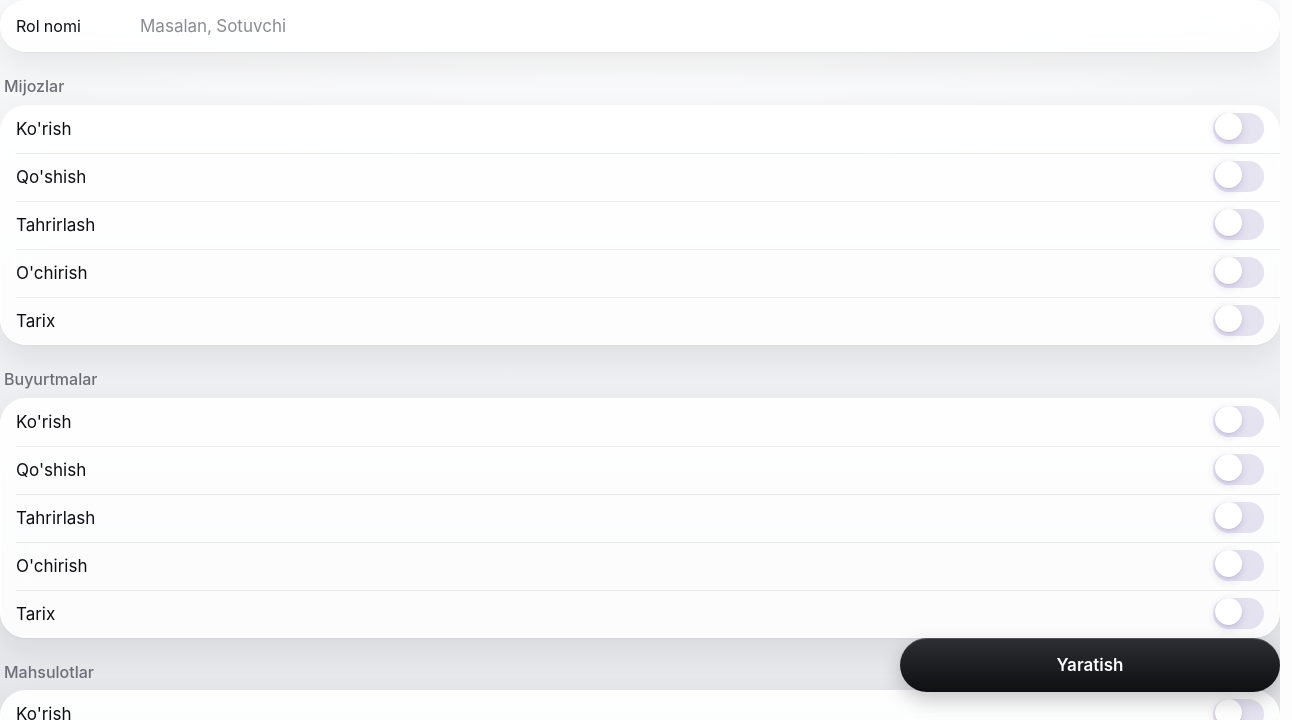
Test: a new role is made with its name and permissions, in the catalog's order, and the roles open
This screenshot has width=1292, height=720.
Type " Sotuvchi " into the field labelled "Rol nomi" at (702, 26), box [140, 4, 1264, 48]
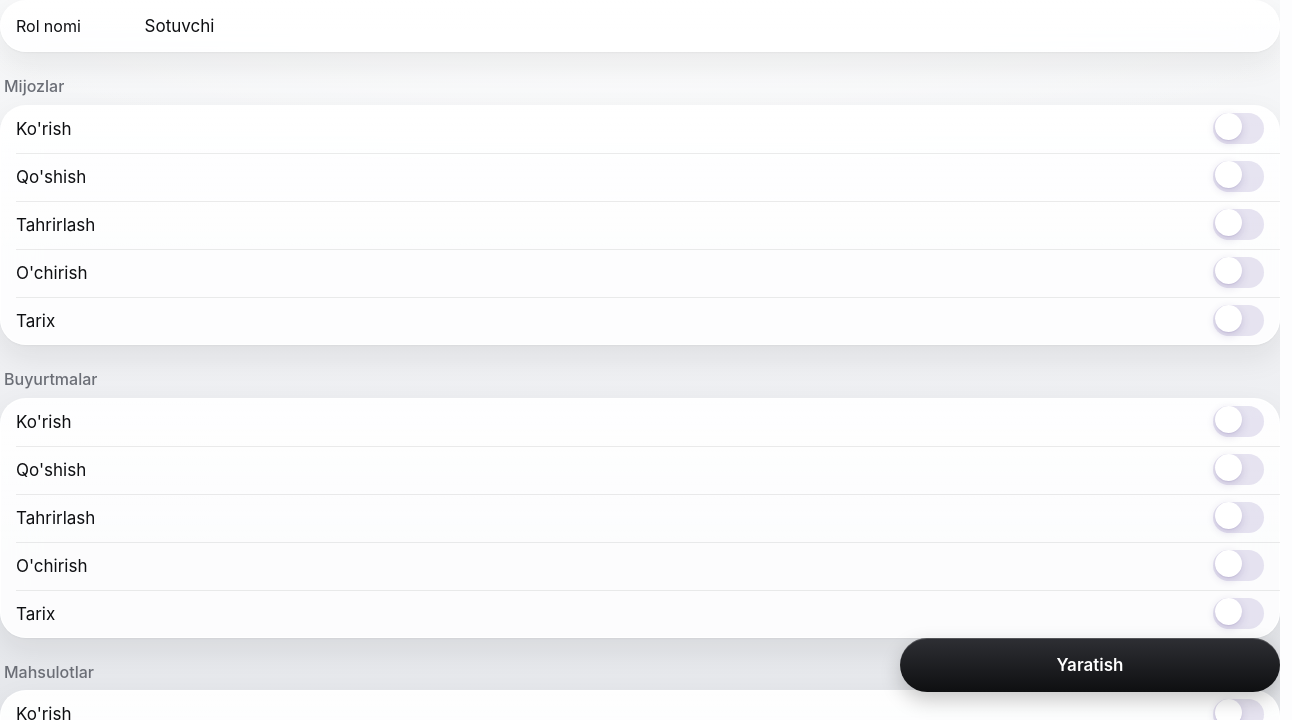
Click the 6th switch named "Ko'rish" at (1238, 422), box [1213, 406, 1264, 437]
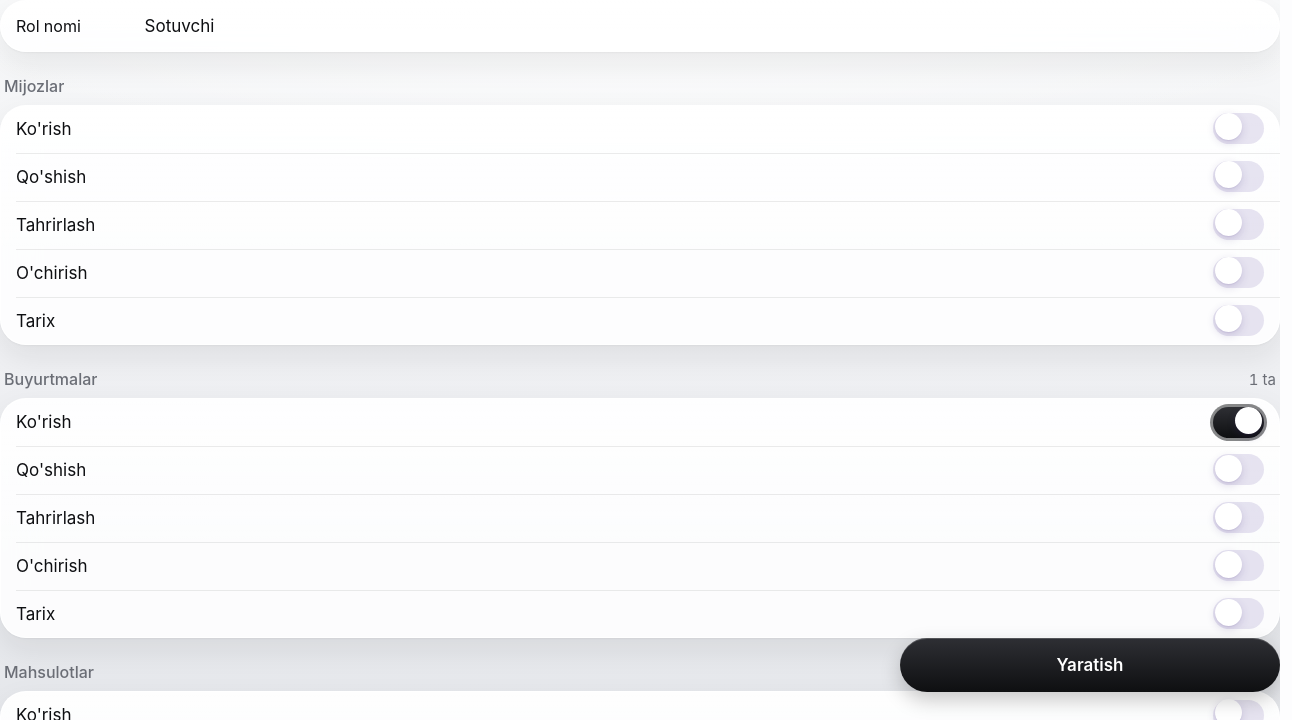
Click the 3rd switch named "Tahrirlash" at (1238, 225), box [1213, 209, 1264, 240]
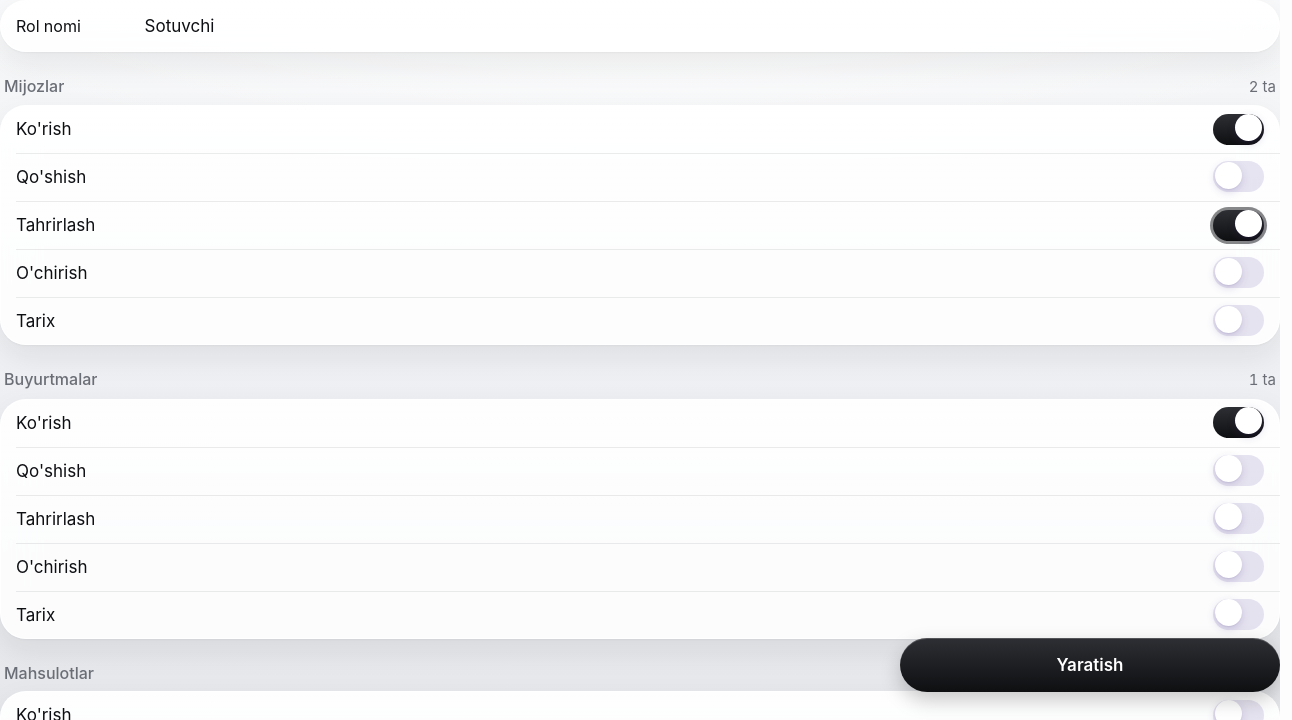
Click the button "Yaratish" at (1090, 665), box [900, 638, 1280, 692]
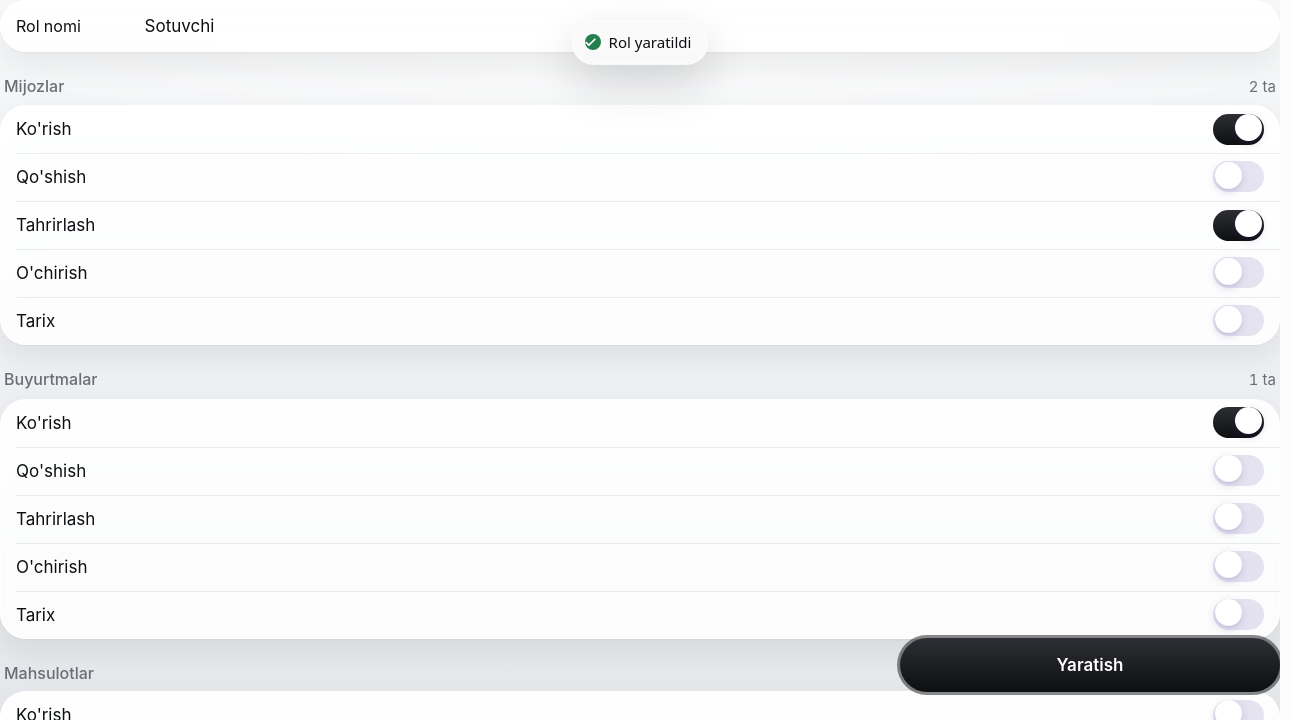
Expected: the text "Rol yaratildi" is shown, [609, 31, 691, 54]
